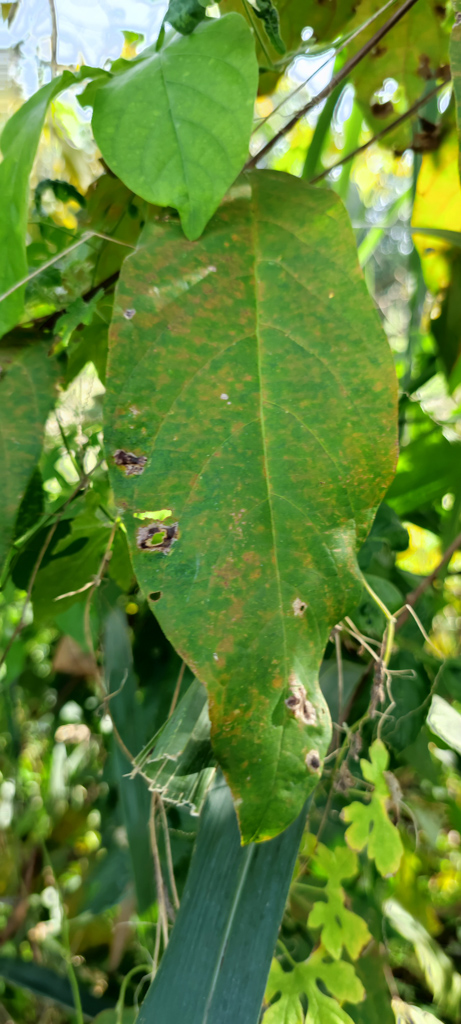frog-eye leafspot: (117, 184, 399, 841)
